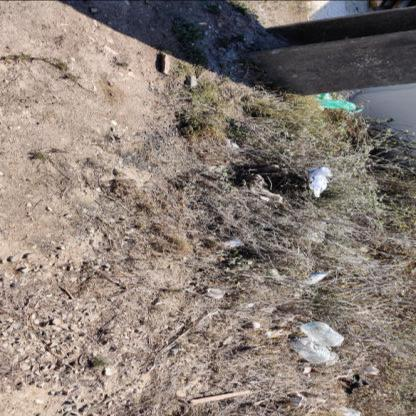Bottle cap: (302, 322, 345, 347), (289, 336, 330, 362)
Cup: (202, 288, 225, 298)
Plastic bag - wrapper: (315, 93, 363, 114), (250, 174, 283, 204), (308, 166, 335, 197), (318, 351, 338, 365), (342, 406, 362, 416), (364, 367, 380, 375), (262, 331, 278, 338)
Unlabeled litter: (297, 271, 331, 288), (346, 374, 370, 394), (220, 239, 245, 248), (265, 268, 283, 278)
